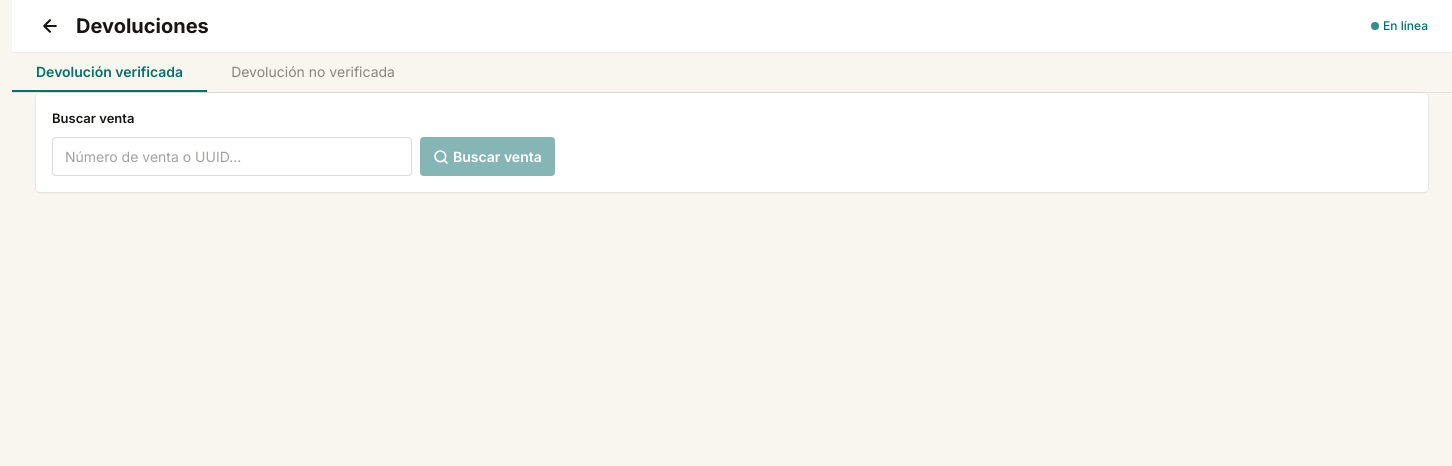
Scenario: ReturnsPage › RETP-03: sale found › displays the found sale items after a successful search
The width and height of the screenshot is (1452, 466).
Type "42" into the field with placeholder "Número de venta o UUID...". click: (232, 156)
box: top-left (52, 136), bottom-right (412, 176)
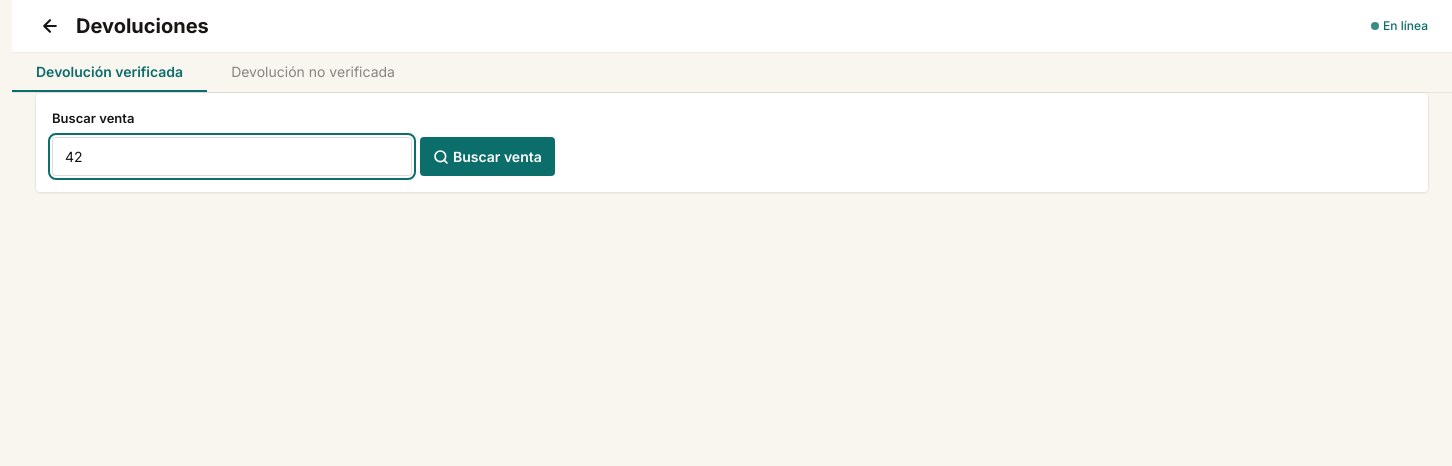
Click the button "Buscar venta". click: (487, 156)
box: top-left (420, 136), bottom-right (555, 176)
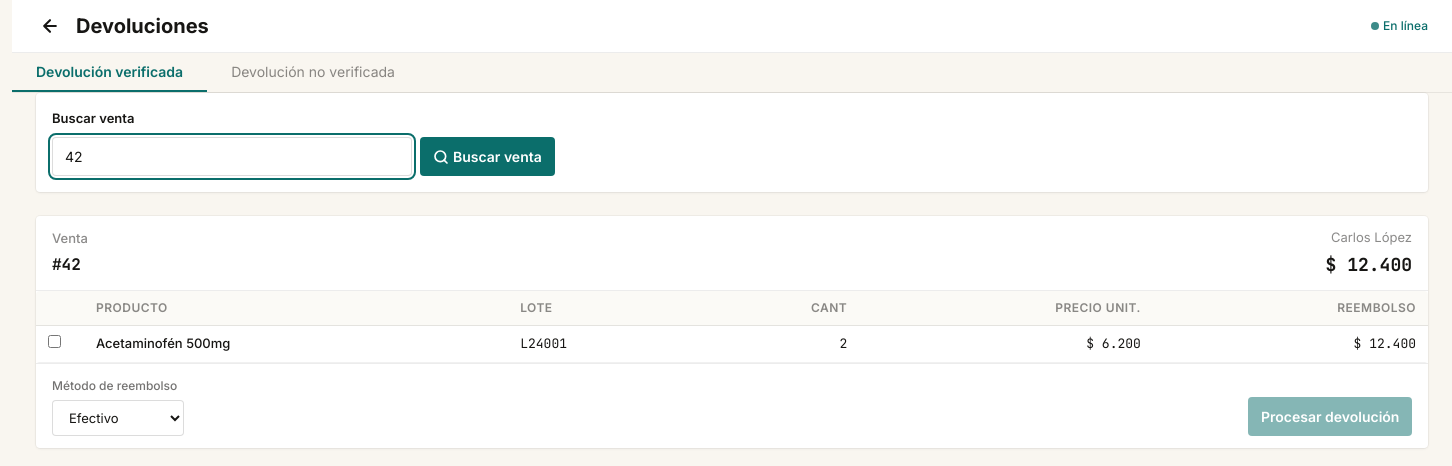
Now the text "Acetaminofén 500mg" is shown, box top-left (84, 326), bottom-right (508, 362)
